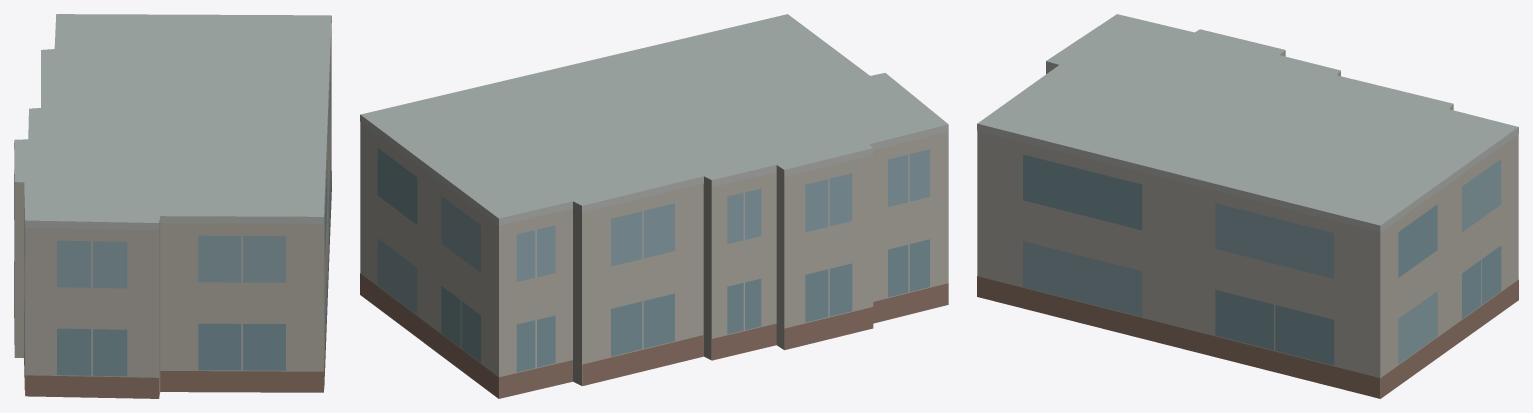
The model's file is survey-upis-32929354.glb.
The picture shows the model from 3 angles, left to right: view 1: azimuth 30°, elevation 25°; view 2: azimuth 150°, elevation 25°; view 3: azimuth 270°, elevation 25°; orthographic projection. The views are drawn at different scales.
Parts seen in each view (by area): view 1: survey-upis-32929354.tmp; view 2: survey-upis-32929354.tmp; view 3: survey-upis-32929354.tmp.
Boxes of the visible parts, x1,y1,x2,y2 form: survey-upis-32929354.tmp: (14,14,331,398); survey-upis-32929354.tmp: (360,14,948,398); survey-upis-32929354.tmp: (977,14,1518,398).
Bounding box in the file's own units: 15.99 × 6.1 × 17.29.
